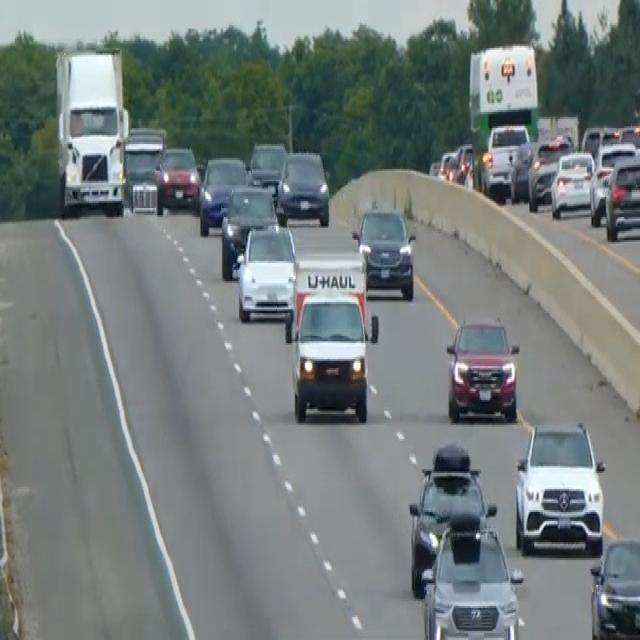car: (407, 441, 496, 594), (513, 416, 606, 556), (445, 311, 520, 423), (232, 220, 297, 322), (353, 202, 416, 300), (219, 181, 278, 279), (588, 535, 639, 638), (276, 147, 330, 225), (198, 153, 247, 235), (479, 121, 530, 197), (123, 126, 165, 214), (527, 132, 573, 212), (604, 151, 639, 242), (155, 142, 200, 212), (550, 148, 594, 218), (247, 139, 286, 201), (508, 138, 537, 202), (588, 162, 612, 226), (448, 142, 473, 187)
jeep: (419, 507, 524, 638)
lorry: (53, 41, 130, 217)
minivan: (286, 284, 376, 425)
